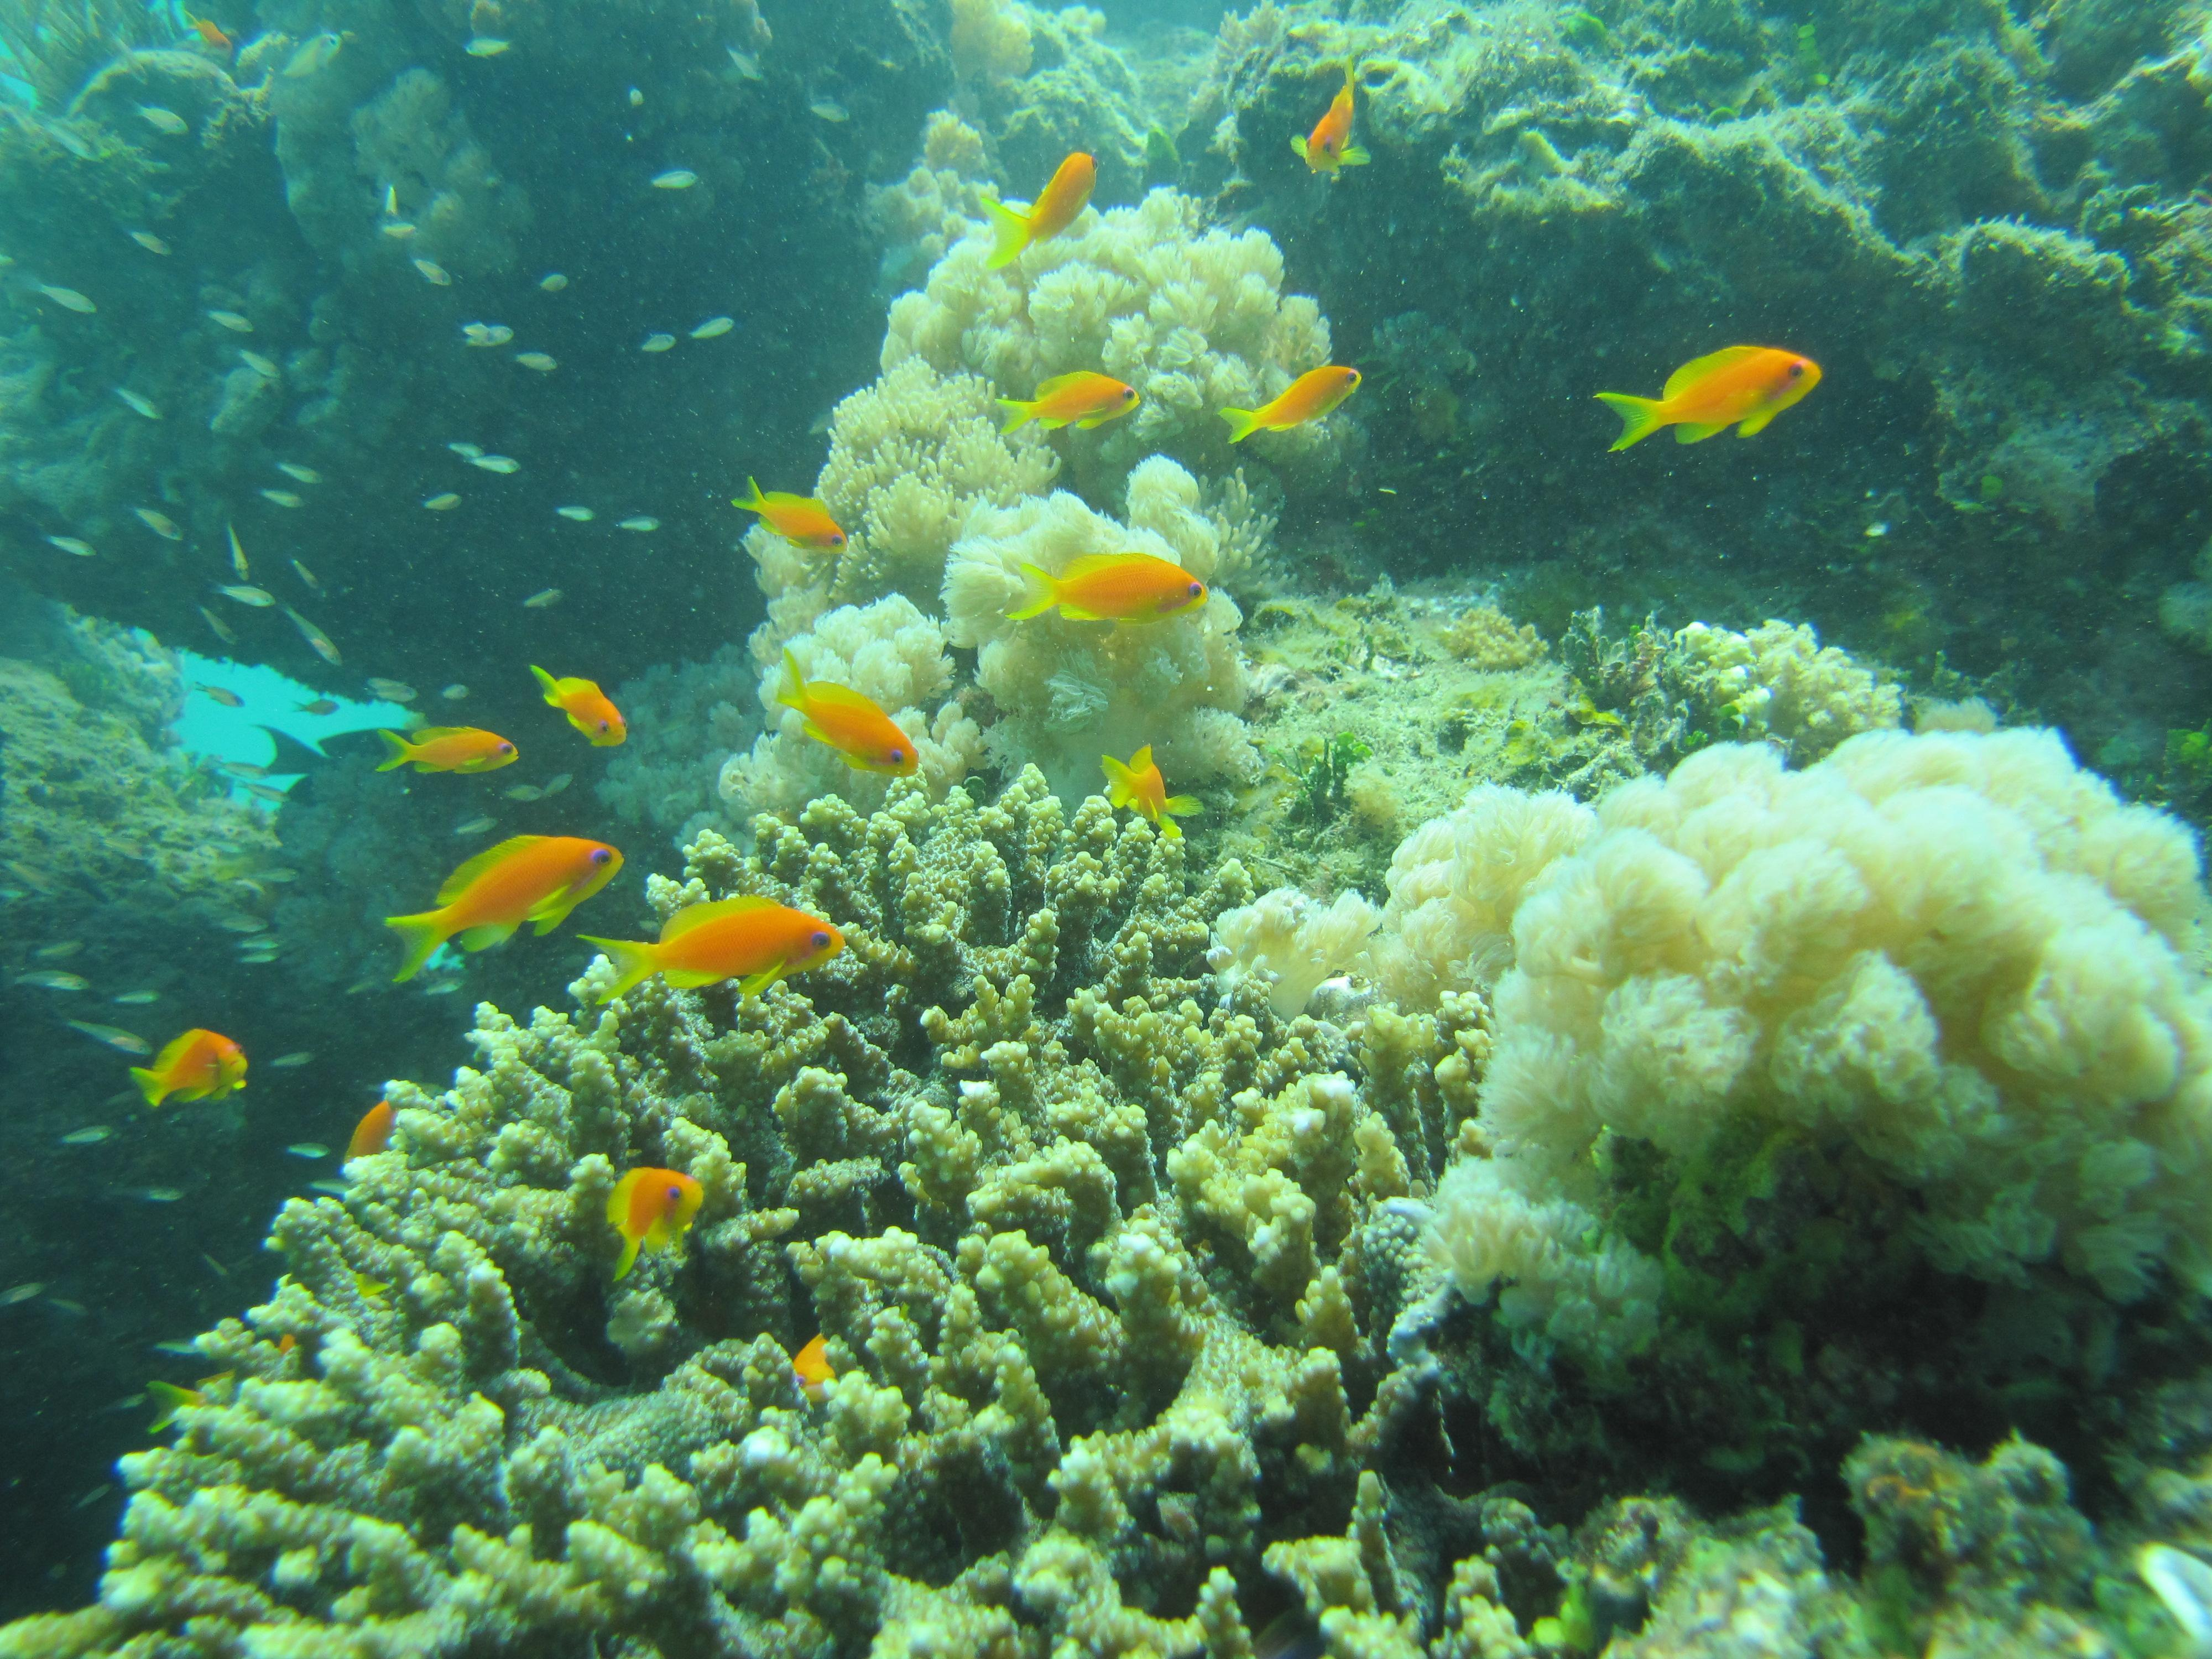Pseadanthias squamipinnis: (1554, 274, 1902, 512), (1186, 270, 1484, 486), (366, 805, 653, 1007), (540, 890, 932, 1018), (970, 509, 1275, 664), (721, 652, 961, 830), (547, 1108, 761, 1291), (949, 108, 1162, 279), (486, 633, 691, 779), (92, 986, 284, 1136), (956, 345, 1186, 457), (1238, 66, 1404, 211), (700, 471, 885, 594), (343, 688, 526, 796)
